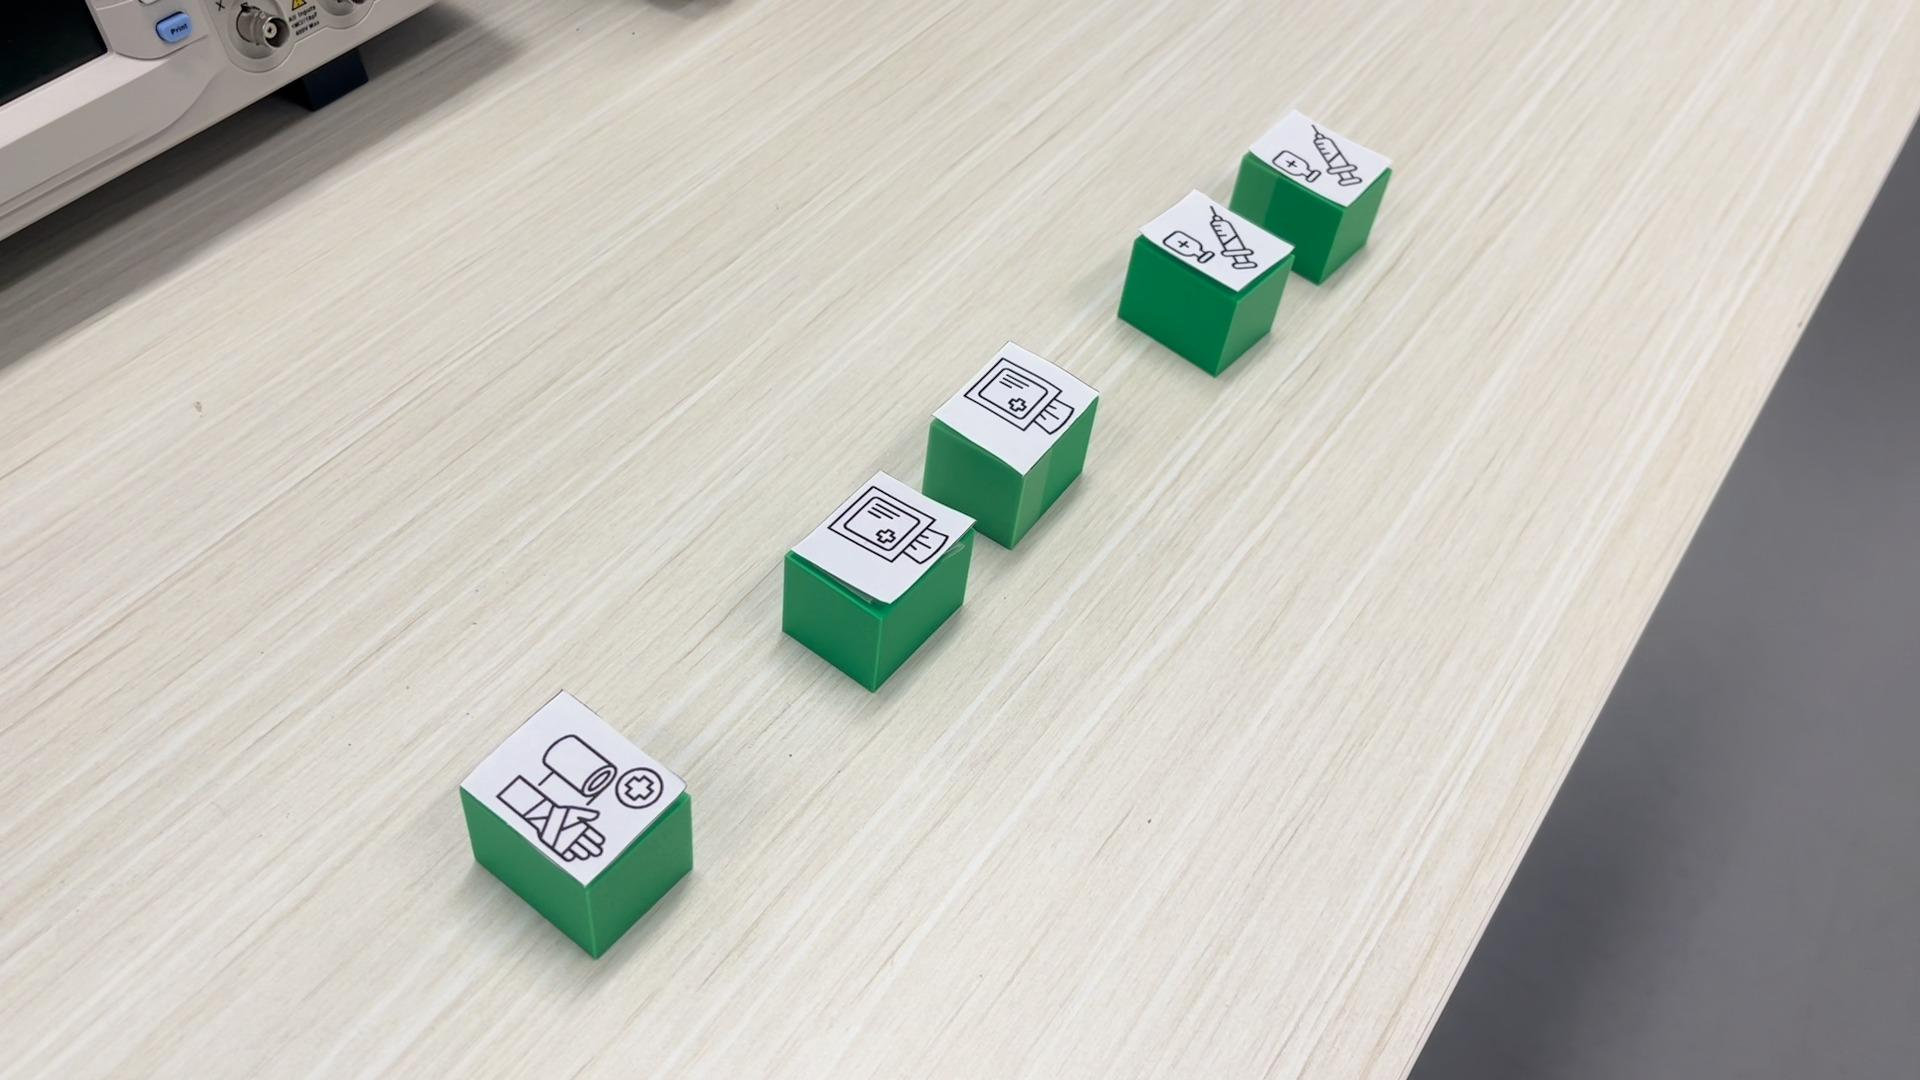Bandages: (455, 688, 695, 957)
Gauze: (779, 469, 971, 691), (923, 339, 1101, 500)
antiseptic cream: (1118, 183, 1298, 373), (1228, 105, 1396, 285)
